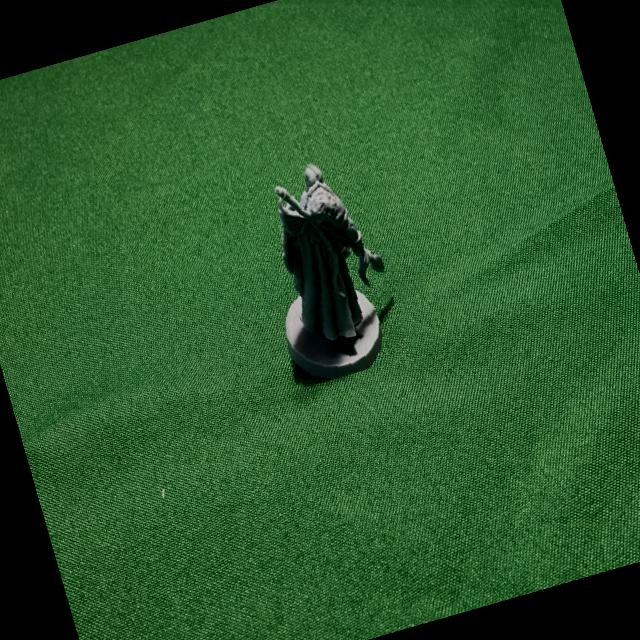isis_follower: (241, 148, 414, 390)
